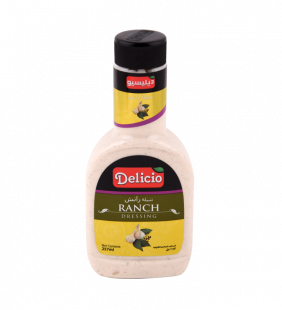DELICIO: (85, 29, 195, 280)
